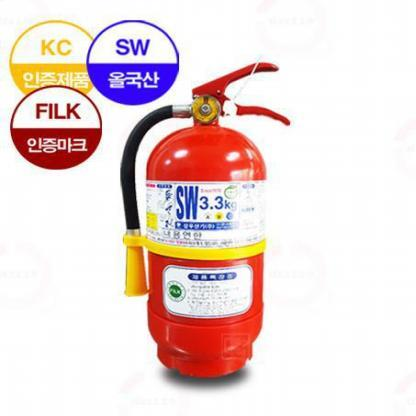fire-extinguisher: (121, 63, 290, 379)
